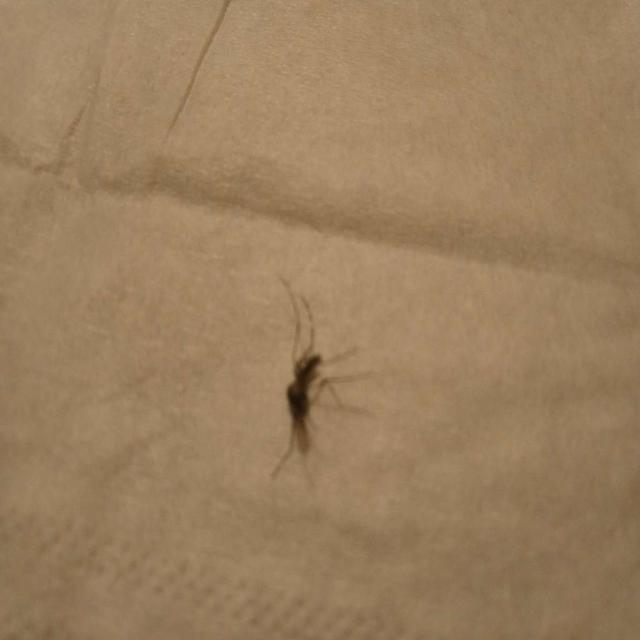albopictus: (249, 274, 361, 480)
